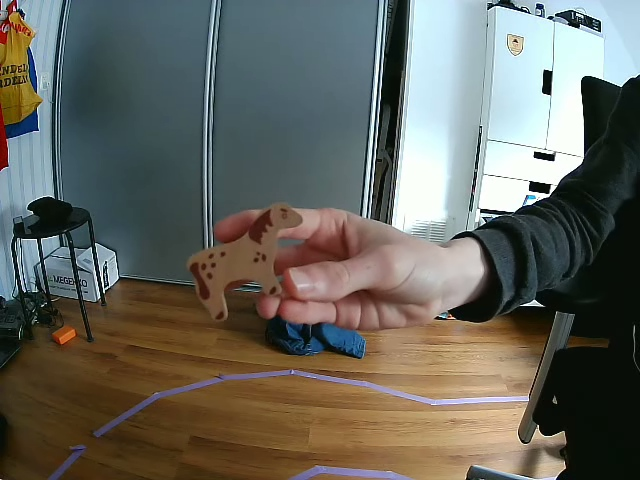paard: (190, 201, 303, 320)
